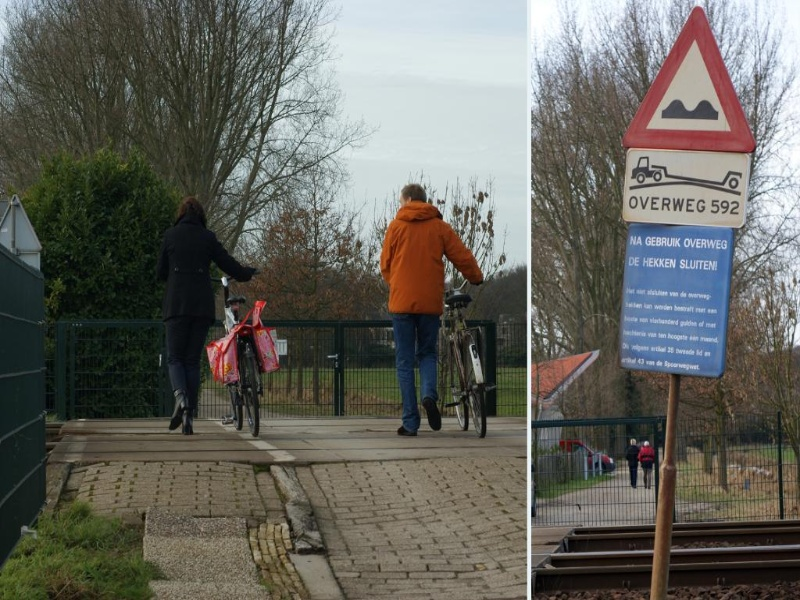uneven_road_ahead: (620, 5, 758, 155)
